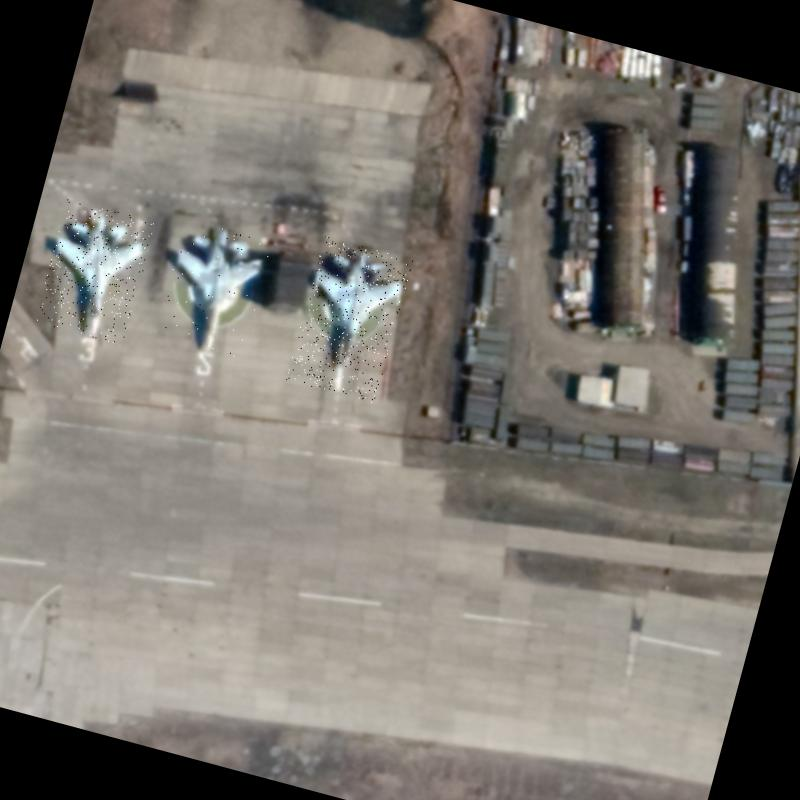A1: (286, 236, 412, 404), (152, 216, 274, 364), (34, 198, 156, 345)
